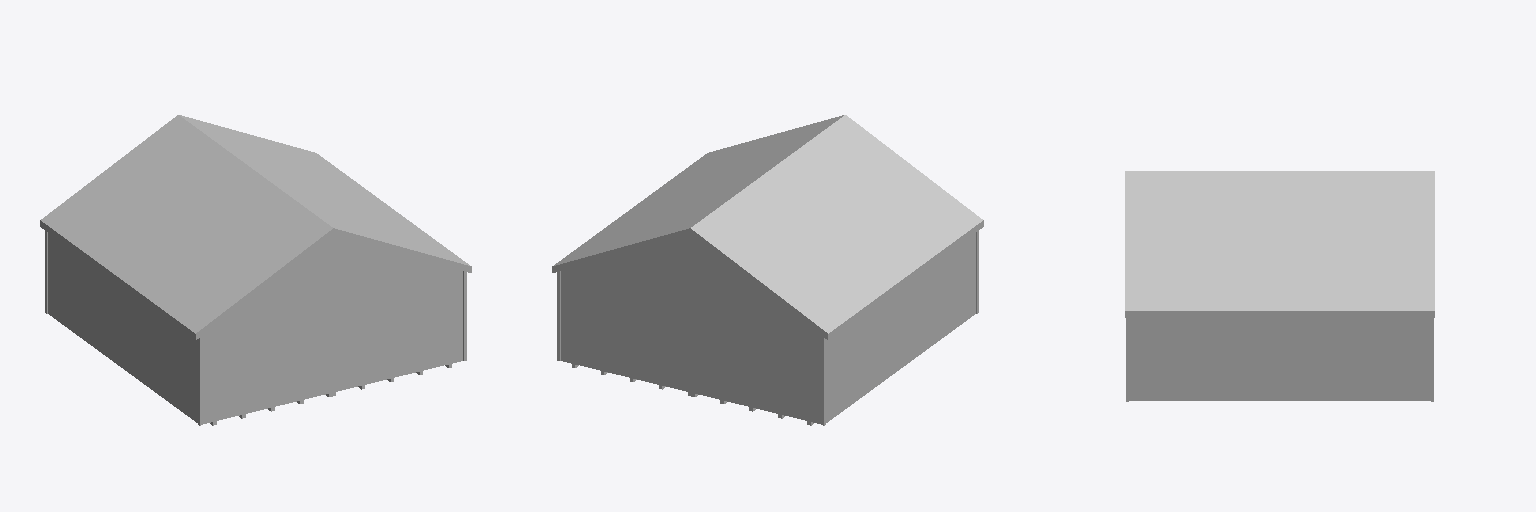
The model's file is Double Garage 6-12 PITCH ROOF_24x24.obj.
The picture shows the model from 3 angles: view 1: azimuth 30°, elevation 25°; view 2: azimuth 150°, elevation 25°; view 3: azimuth 270°, elevation 25°; orthographic projection.
Parts seen in each view (by area): view 1: Double Garage 6-12 PITCH ROOF_24x24.obj; view 2: Double Garage 6-12 PITCH ROOF_24x24.obj; view 3: Double Garage 6-12 PITCH ROOF_24x24.obj.
Boxes of the visible parts, box(x1,y1,x2,y2) form: Double Garage 6-12 PITCH ROOF_24x24.obj: box(40, 115, 471, 425); Double Garage 6-12 PITCH ROOF_24x24.obj: box(552, 115, 983, 425); Double Garage 6-12 PITCH ROOF_24x24.obj: box(1125, 171, 1434, 401).
Bounding box in the file's own units: 7.62 × 4.46 × 7.42.